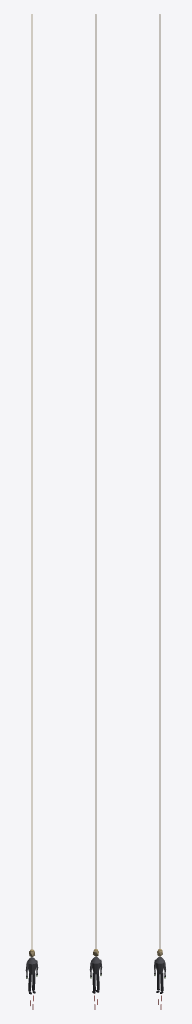
Rendered from hanged_figure.glb.
3 views of the same model, side by side, from view 1: azimuth 30°, elevation 25°; view 2: azimuth 210°, elevation 25°; view 3: azimuth 330°, elevation 25° (orthographic).
Visible parts, largest first — view 1: hanged_figure; view 2: hanged_figure; view 3: hanged_figure.
Boxes of the visible parts, <box> form: hanged_figure: <box>25,14,38,1009</box>; hanged_figure: <box>89,14,102,1009</box>; hanged_figure: <box>154,14,165,1009</box>.
Size of the model in its own units: 0.5855 by 45.83 by 0.4333.
